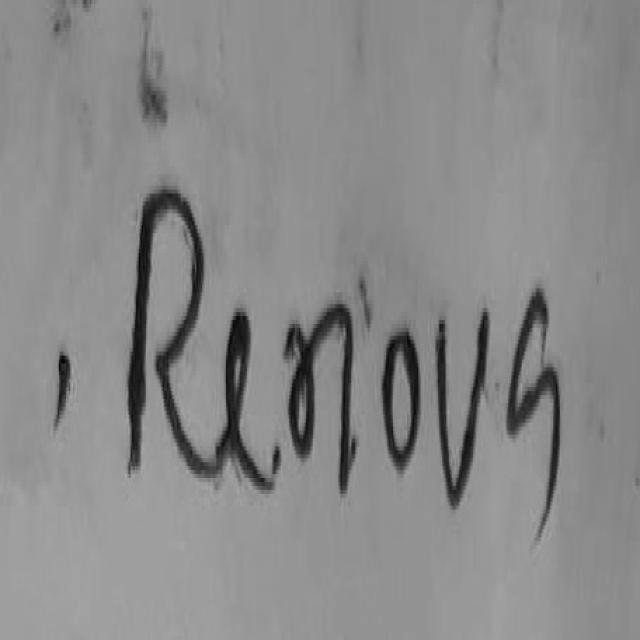R: (128, 198, 222, 476)
a: (508, 288, 561, 437)
e: (226, 312, 272, 488)
n: (287, 308, 355, 492)
o: (383, 332, 421, 470)
v: (439, 312, 489, 508)
